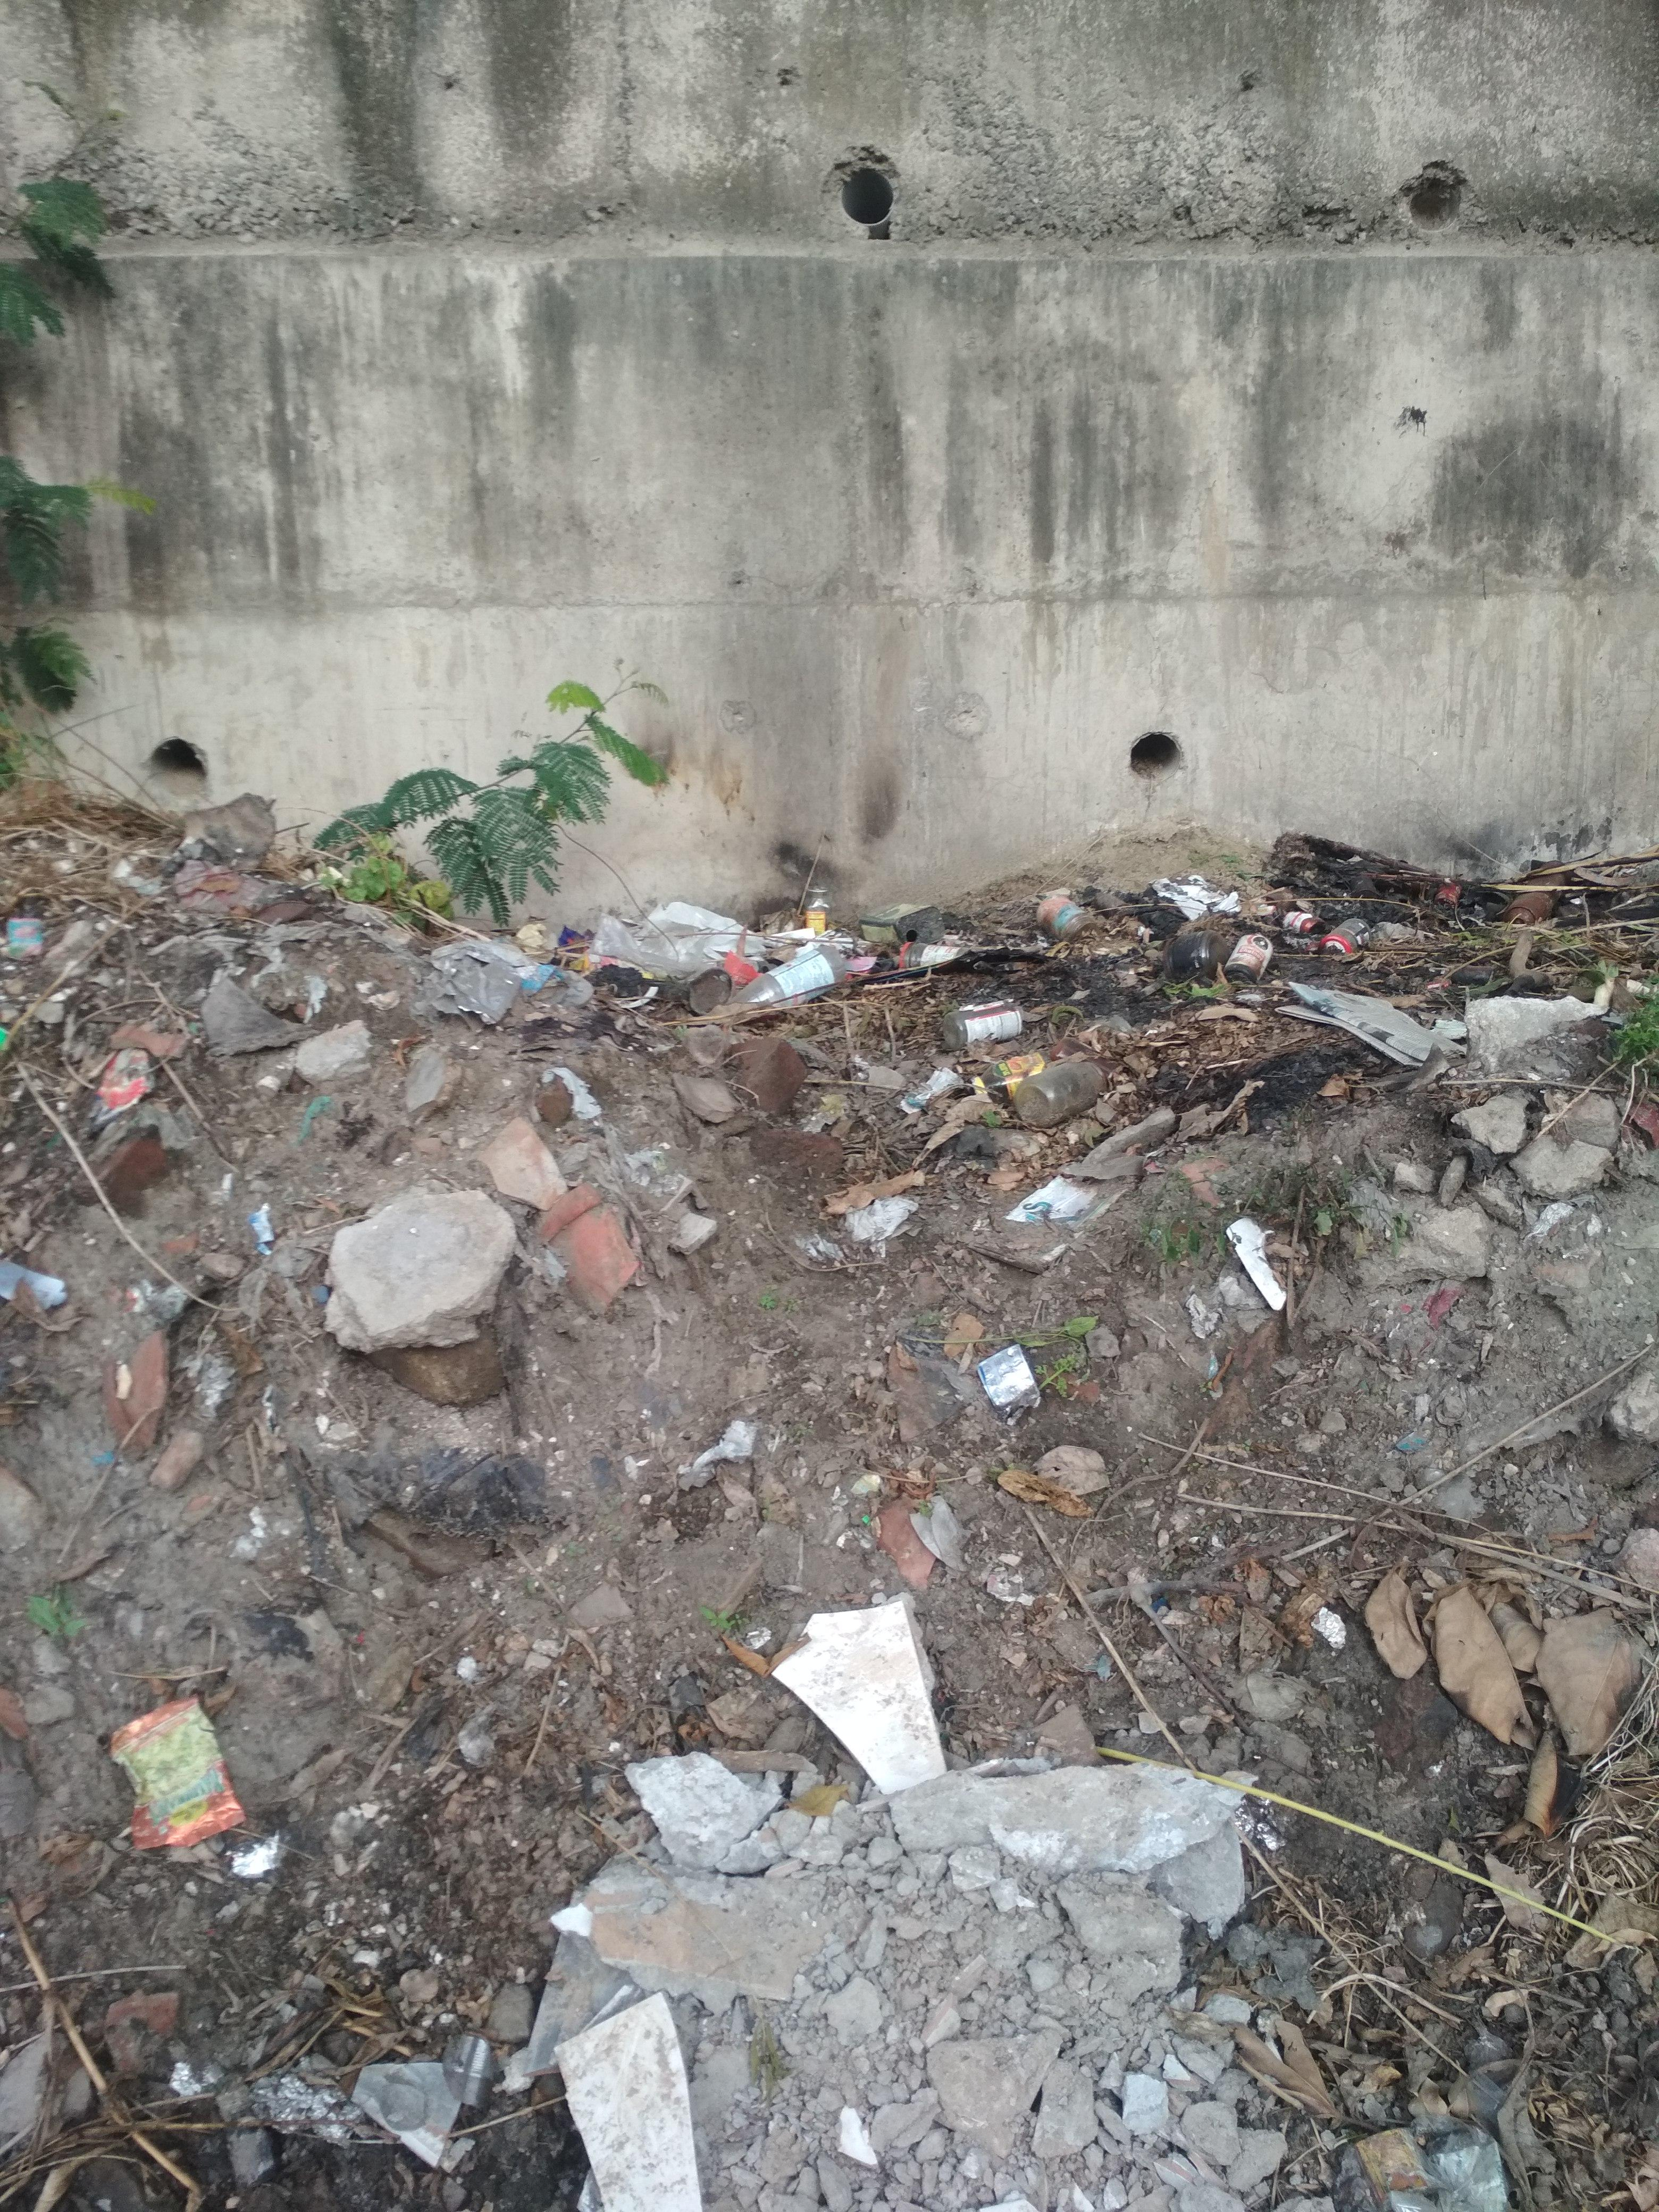trash: (594, 820, 1659, 1200)
